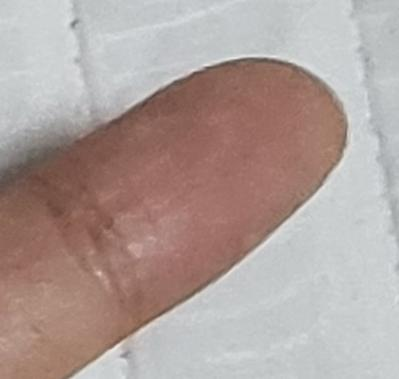Fingerprints: (30, 58, 348, 330)
